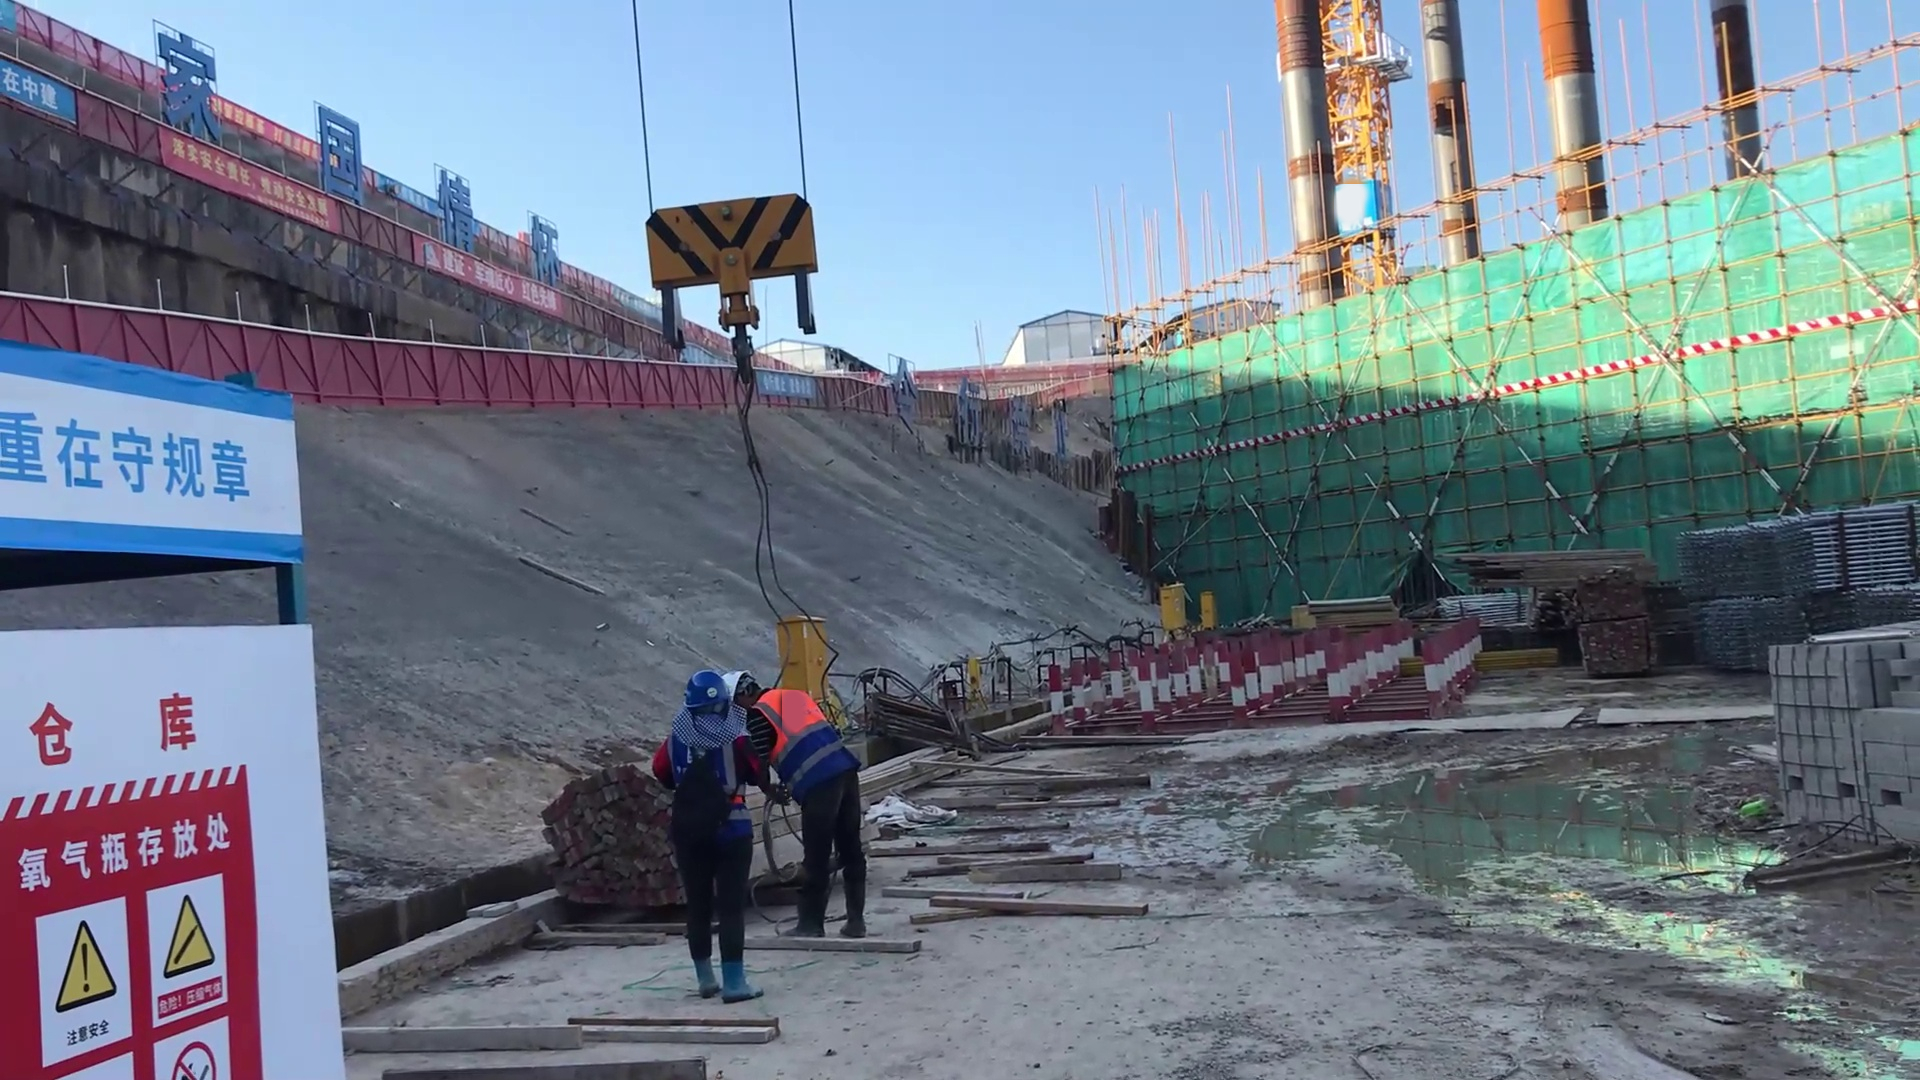brick: (1764, 619, 1920, 853)
ebox: (768, 612, 830, 672), (1156, 587, 1195, 634), (1199, 589, 1216, 623)
fence: (306, 330, 588, 415), (578, 360, 748, 411)
helmet: (686, 674, 733, 724)
hook: (637, 192, 818, 353)
person: (723, 663, 879, 946), (648, 659, 767, 1007)
scaffold: (1667, 498, 1919, 594)
slogan: (22, 776, 290, 1080), (1, 393, 263, 508), (137, 123, 333, 268)
vest: (764, 686, 833, 752)
wood: (534, 763, 662, 933), (1430, 530, 1652, 608)
